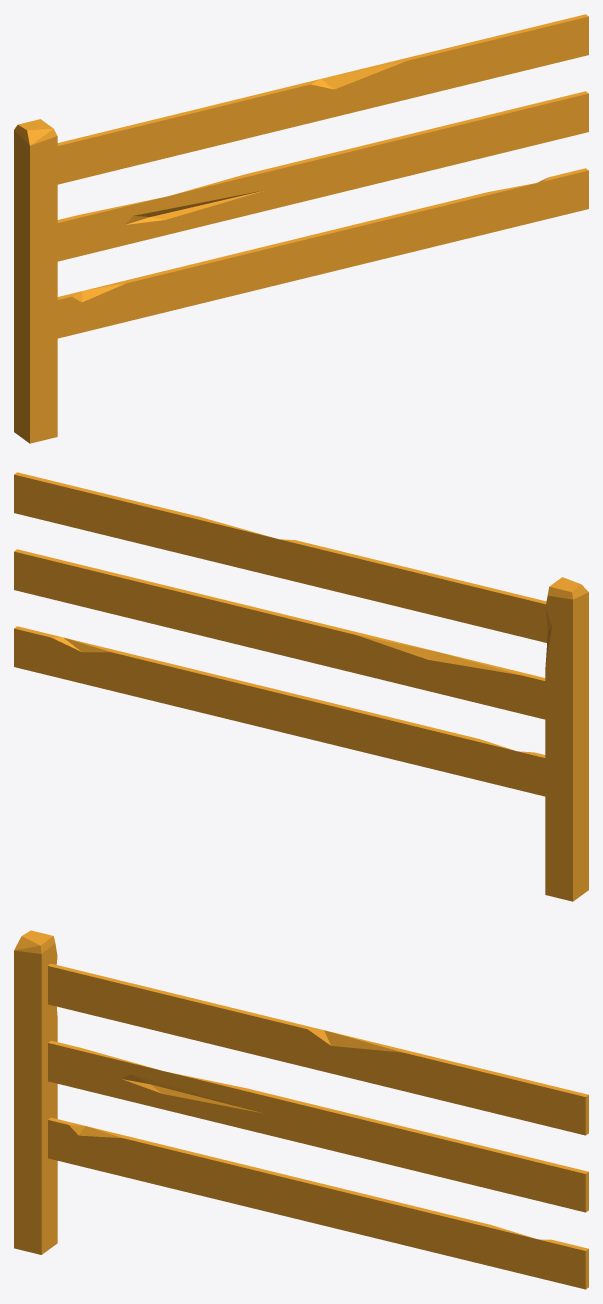
File: SM_Fence_Horse_3m.fbx
The picture shows the model from 3 angles, top to bottom: view 1: azimuth 30°, elevation 25°; view 2: azimuth 150°, elevation 25°; view 3: azimuth 330°, elevation 25°; orthographic projection.
Parts seen in each view (by area): view 1: fence-horse-3m; view 2: fence-horse-3m; view 3: fence-horse-3m.
Boxes of the visible parts, x1=… form: fence-horse-3m: x1=14, y1=14, x2=588, y2=443; fence-horse-3m: x1=14, y1=472, x2=588, y2=901; fence-horse-3m: x1=14, y1=930, x2=588, y2=1289.
Bounding box in the file's own units: 3.07 × 1.61 × 0.15.
